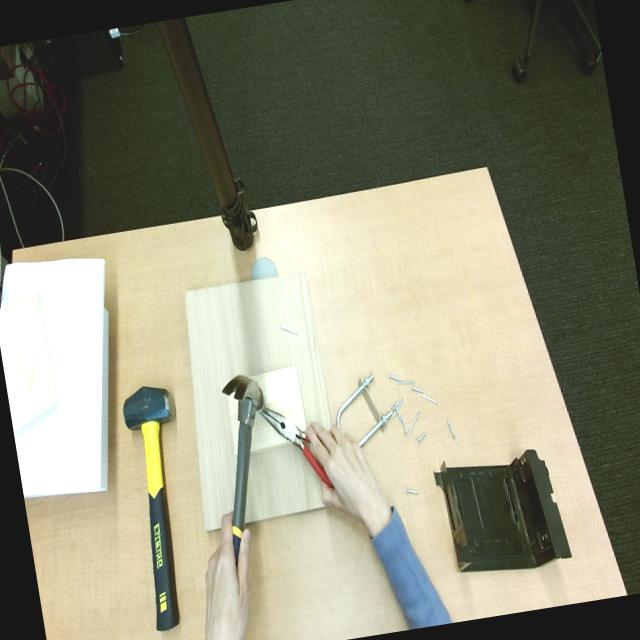hammer: (123, 387, 180, 631), (224, 375, 264, 565)
pliers: (260, 405, 334, 489)
